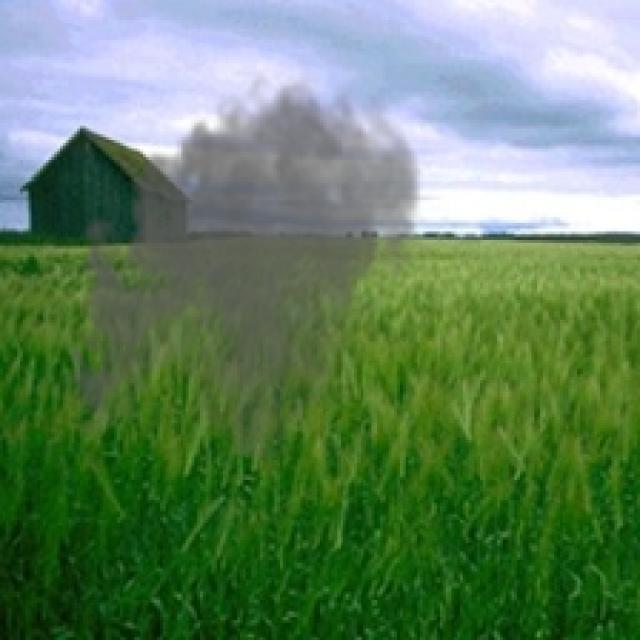Smoke: (57, 62, 429, 458)
